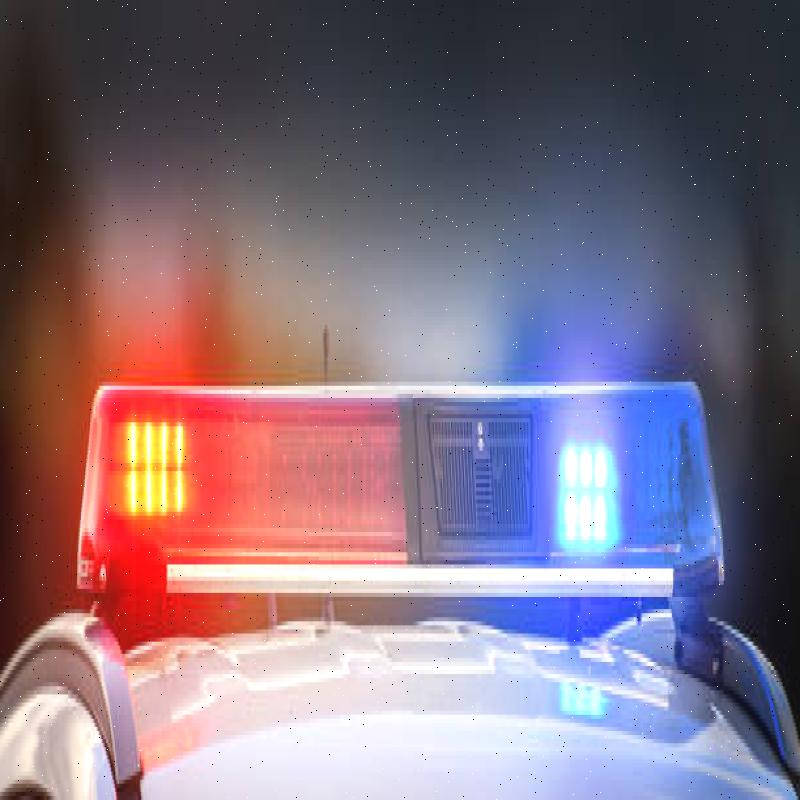AmbulanceSiren: (66, 343, 734, 658)
